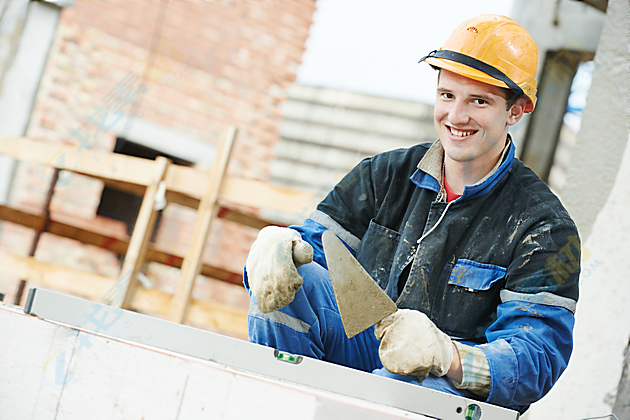safetyhat: (253, 3, 585, 382)
